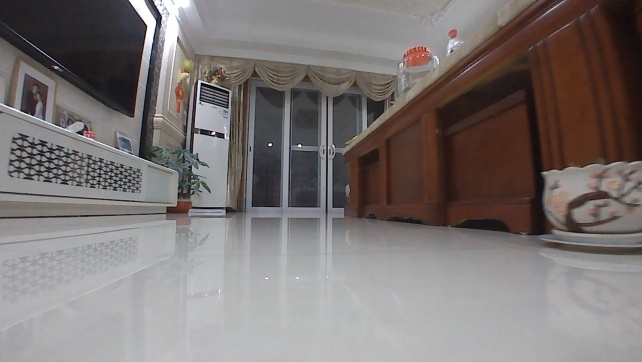TV_stand1: (0, 100, 180, 221)
tea_table: (338, 0, 641, 237)
